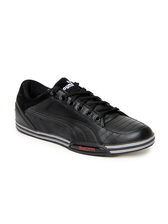shoes: (4, 67, 162, 163)
